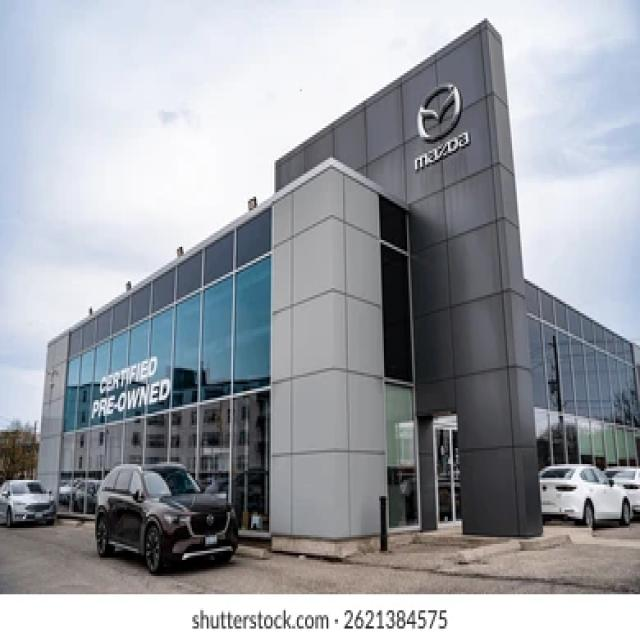mazda: (410, 74, 465, 149)
